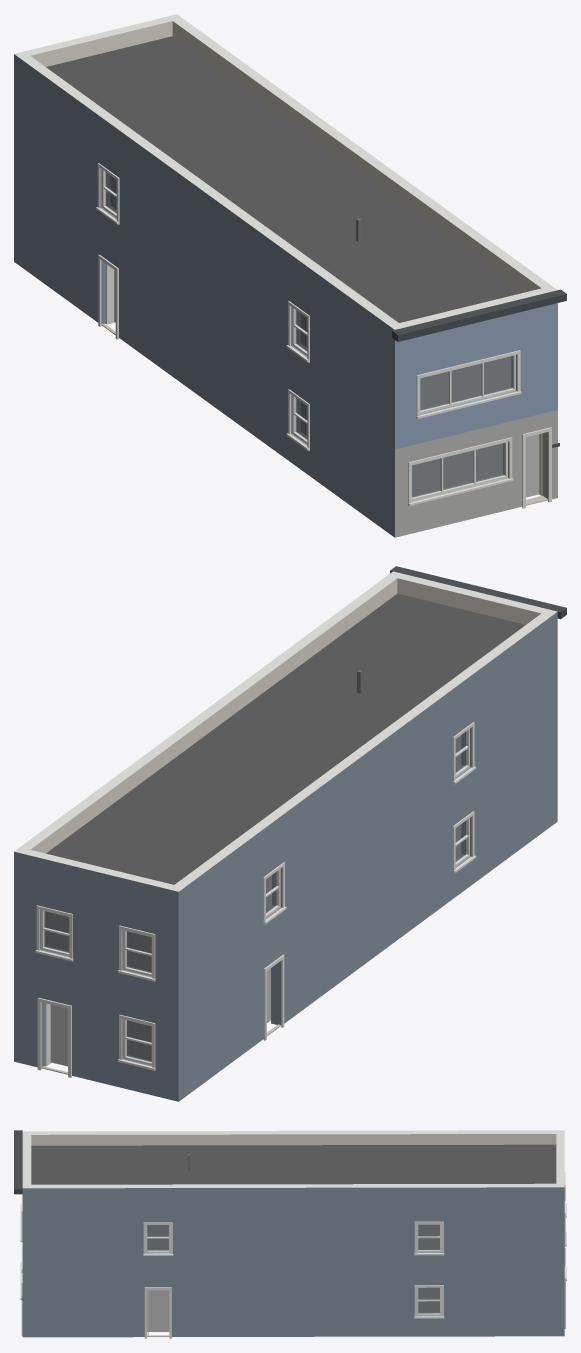
File: exterior.glb
3 views of the same model, one above another, from view 1: azimuth 30°, elevation 25°; view 2: azimuth 150°, elevation 25°; view 3: azimuth 270°, elevation 25° (orthographic). The views are drawn at different scales.
Visible parts, largest first — view 1: shell, roof, glazing, shadow-proxy, trim, frames, doors; view 2: shell, roof, trim, shadow-proxy, glazing, frames; view 3: shell, roof, shadow-proxy, trim, glazing, frames.
Part boxes in pixels (x1,y1,x2,y2): shell: (14, 14, 557, 537); roof: (46, 36, 566, 341); glazing: (105, 172, 512, 497); shadow-proxy: (111, 176, 539, 497); trim: (96, 163, 559, 508); frames: (102, 169, 515, 500); doors: (101, 264, 547, 505); shell: (14, 571, 557, 1101); roof: (46, 566, 566, 884); trim: (35, 722, 476, 1077); shadow-proxy: (46, 736, 460, 1066); glazing: (44, 731, 466, 1061); frames: (41, 729, 469, 1065); shell: (22, 1130, 564, 1337); roof: (14, 1130, 556, 1194); shadow-proxy: (147, 1225, 439, 1331); trim: (20, 1172, 566, 1338); glazing: (147, 1224, 439, 1313); frames: (145, 1224, 441, 1315).
Size of the model in its own units: 5.68 by 6.85 by 22.2.
